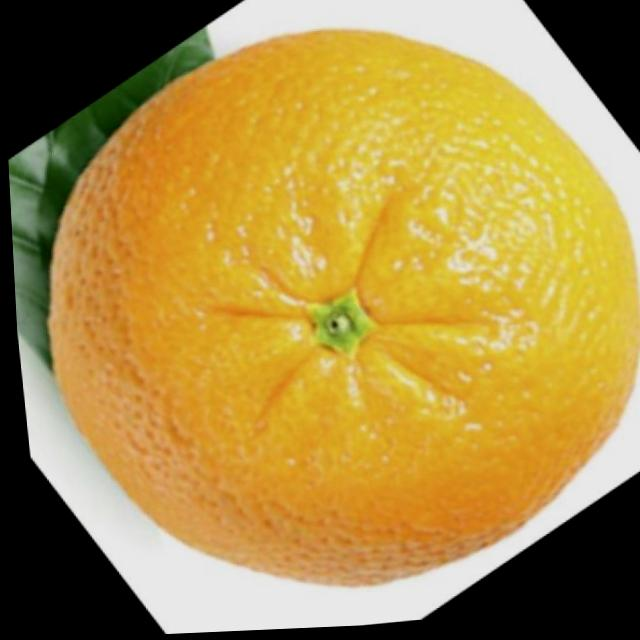Orange: (16, 3, 640, 616)
